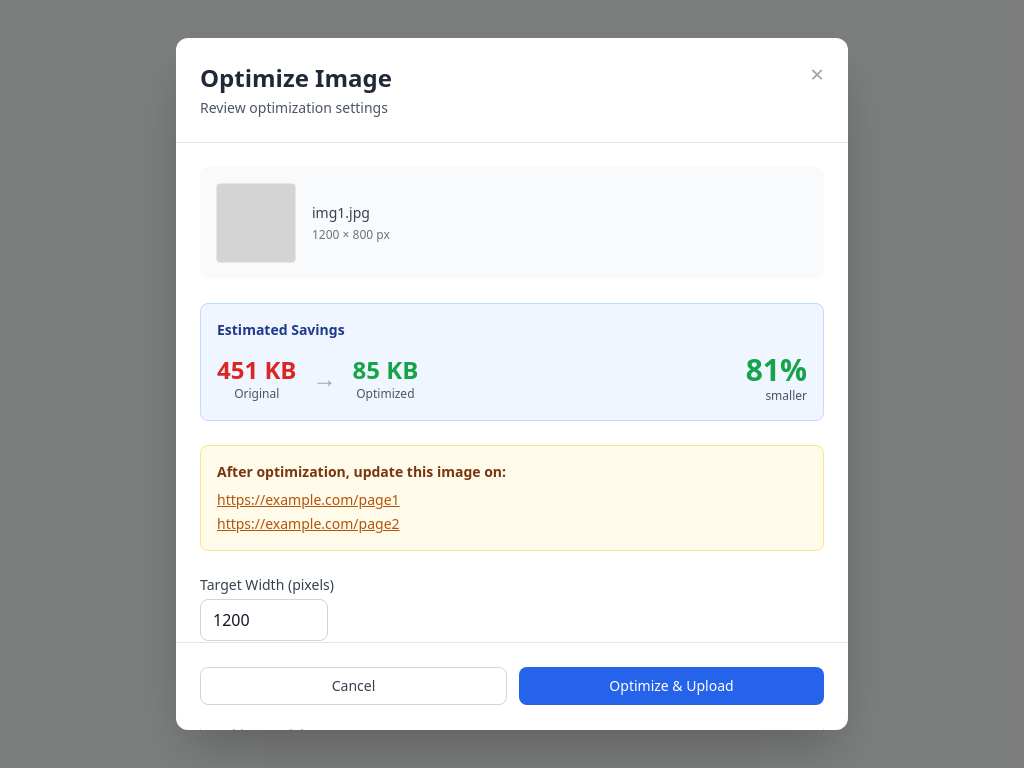
Test case: OptimizeExistingModal › displays success message after optimization
The width and height of the screenshot is (1024, 768).
Step 1. Click the button "Optimize & Upload" → (672, 687), box [519,668,824,706]
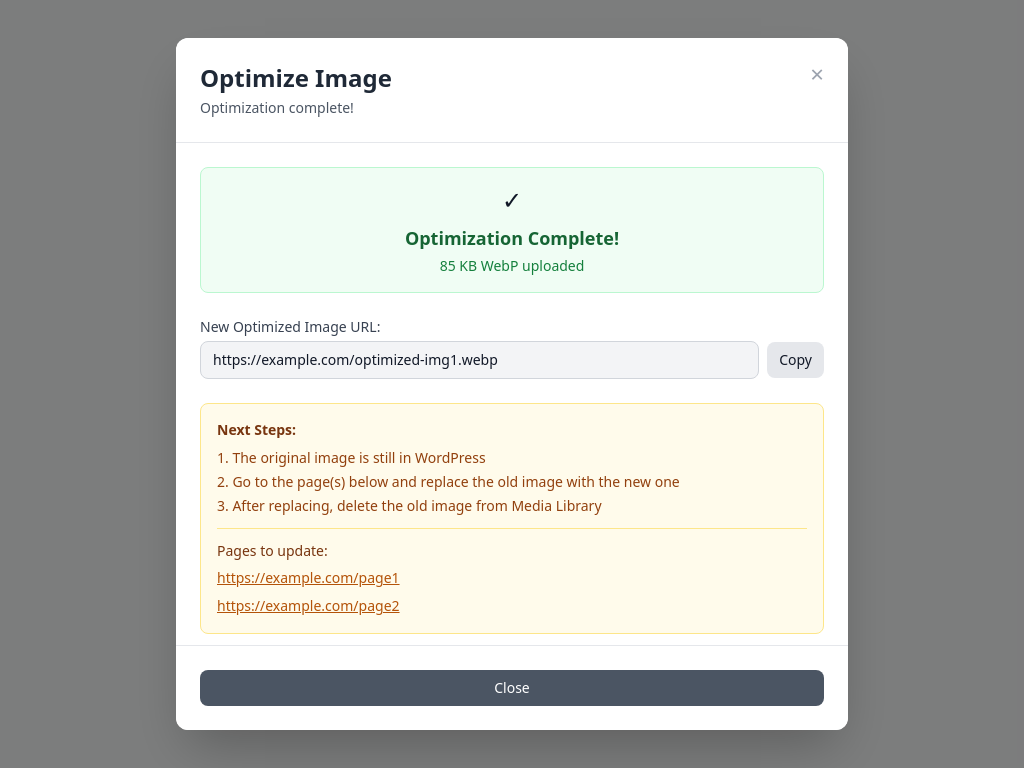
Result: the text "Optimization Complete!" is shown at [405,226,619,250]
